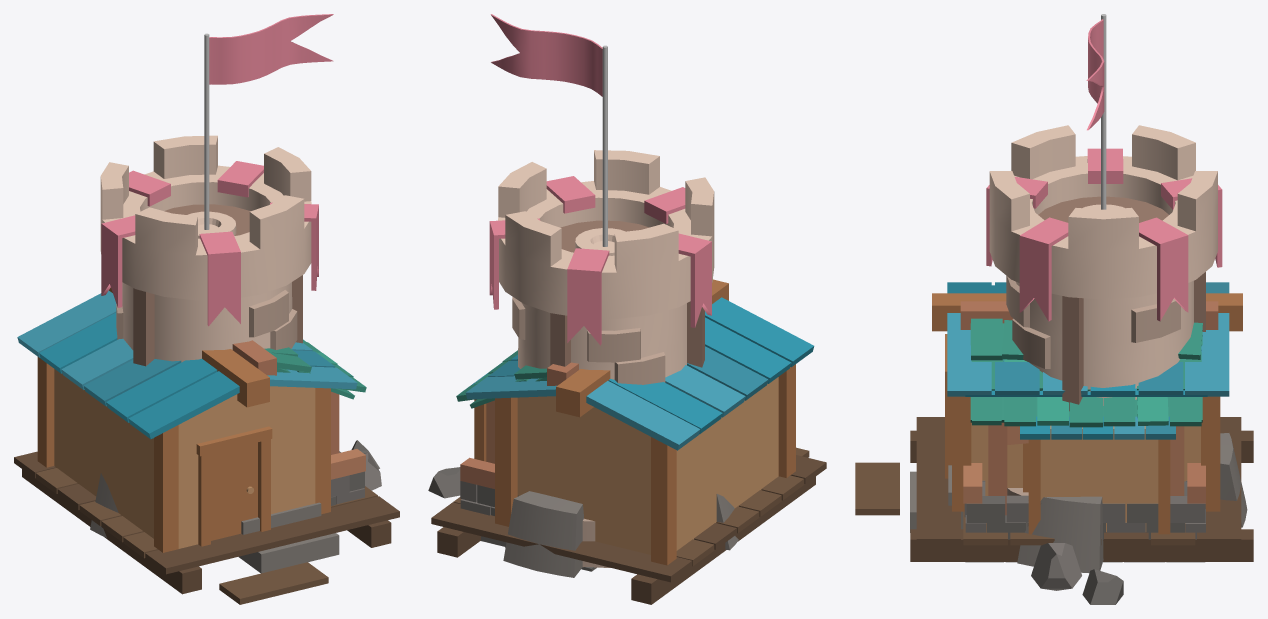
Rendered from Divers_Batiments.fbx.
3 renders of one model, left to right at view 1: azimuth 30°, elevation 25°; view 2: azimuth 150°, elevation 25°; view 3: azimuth 270°, elevation 25°, orthographic. The views are drawn at different scales.
Parts seen in each view (by area): view 1: maison_2, tourelle, granje; view 2: maison_2, tourelle, granje; view 3: tourelle, maison_2, granje.
Boxes of the visible parts, x1,y1,x2,y2 form: maison_2: (14,287,399,604); tourelle: (90,14,339,573); granje: (153,340,381,505); maison_2: (431,279,826,604); tourelle: (489,14,738,577); granje: (428,350,596,571); tourelle: (910,14,1247,572); maison_2: (855,282,1253,561); granje: (960,301,1218,604).
Size of the model in its own units: 660 by 1007 by 714.
